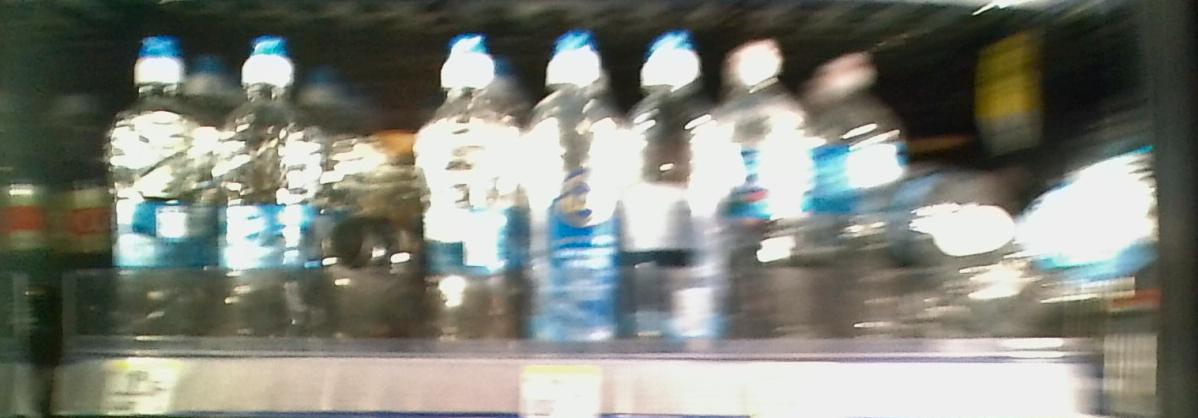bottle: (220, 27, 327, 355), (104, 28, 211, 350), (628, 21, 731, 346), (528, 23, 623, 345), (422, 35, 520, 343), (816, 48, 904, 346), (733, 21, 809, 345), (334, 195, 417, 314)
